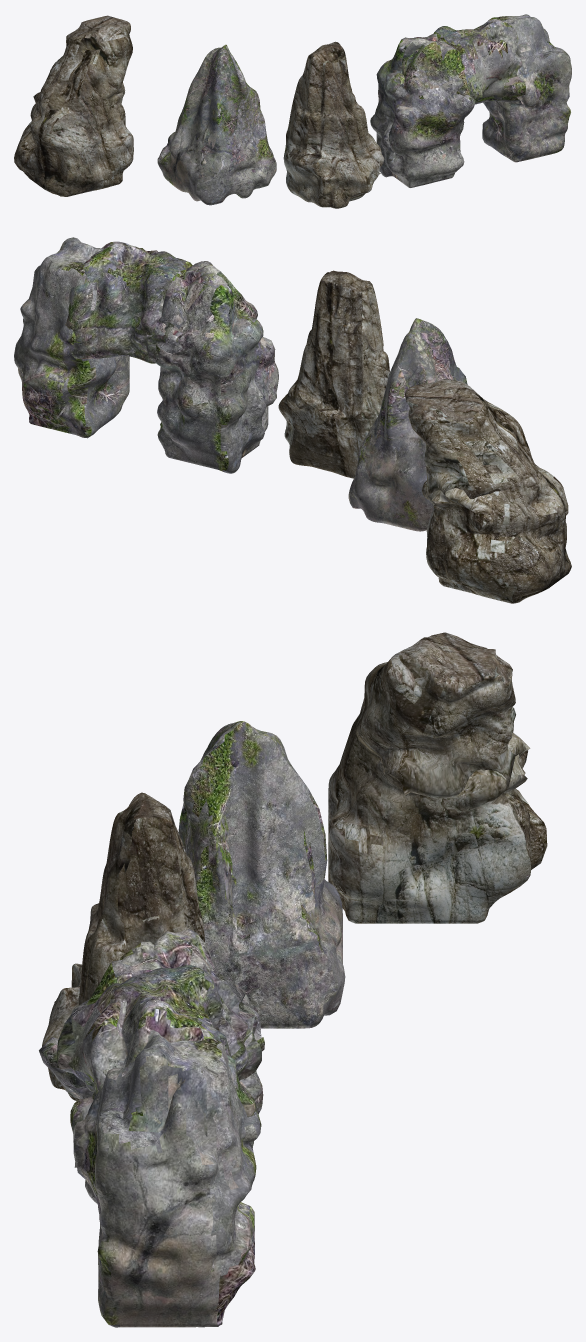
The model's file is rock2.glb.
3 views of the same model, one above another, from view 1: azimuth 30°, elevation 25°; view 2: azimuth 150°, elevation 25°; view 3: azimuth 270°, elevation 25° (orthographic). The views are drawn at different scales.
Parts seen in each view (by area): view 1: polySurface1, pCube1.003, pCube1.001, pCube1; view 2: polySurface1, pCube1.003, pCube1, pCube1.001; view 3: polySurface1, pCube1.003, pCube1.001, pCube1.
Part boxes in pixels (left/top/right/bottom): polySurface1: left=370, top=14, right=571, bottom=187; pCube1.003: left=14, top=15, right=133, bottom=196; pCube1.001: left=157, top=44, right=276, bottom=205; pCube1: left=283, top=41, right=384, bottom=208; polySurface1: left=14, top=237, right=278, bottom=473; pCube1.003: left=404, top=379, right=571, bottom=603; pCube1: left=278, top=270, right=389, bottom=478; pCube1.001: left=348, top=318, right=467, bottom=531; polySurface1: left=39, top=929, right=264, bottom=1327; pCube1.003: left=328, top=632, right=547, bottom=923; pCube1.001: left=178, top=721, right=345, bottom=1028; pCube1: left=42, top=792, right=204, bottom=1100.
Bounding box in the file's own units: 164 × 53.55 × 76.28.
Materials: 4 (4 with a texture image).
